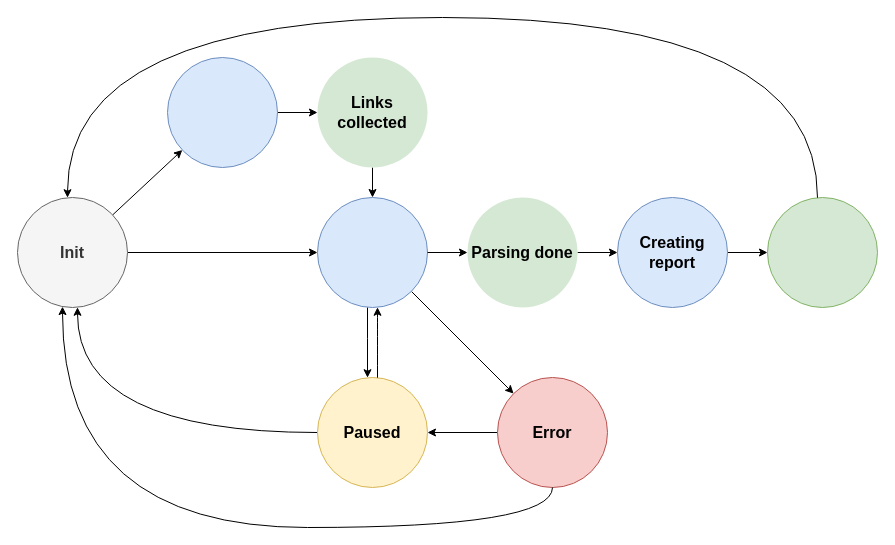
This 895x545 diagram has some shape labels left out. The centre of each missing label's shape, as x and y in pixels:
"Collecting links" goes at (222,112).
"Done" goes at (822,252).
"In progress" goes at (372,252).
